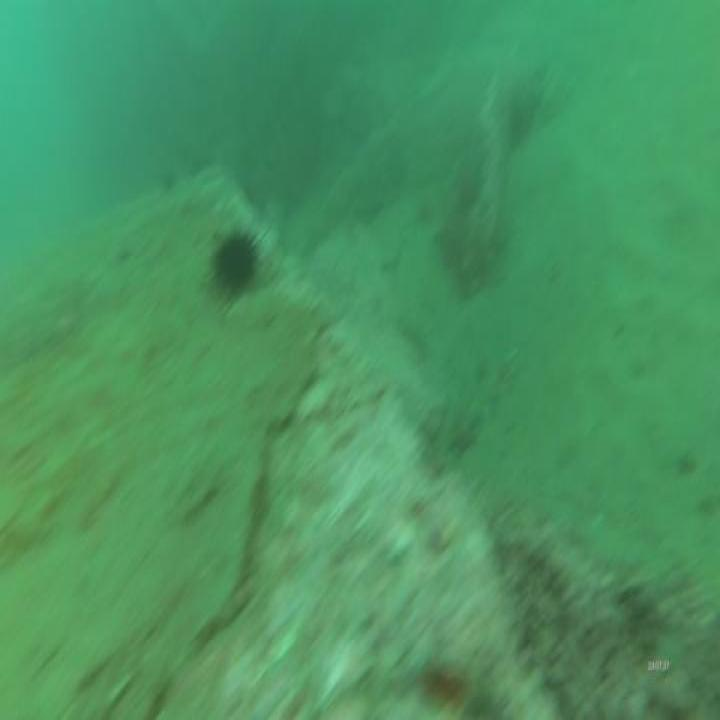echinus: (213, 230, 257, 300)
